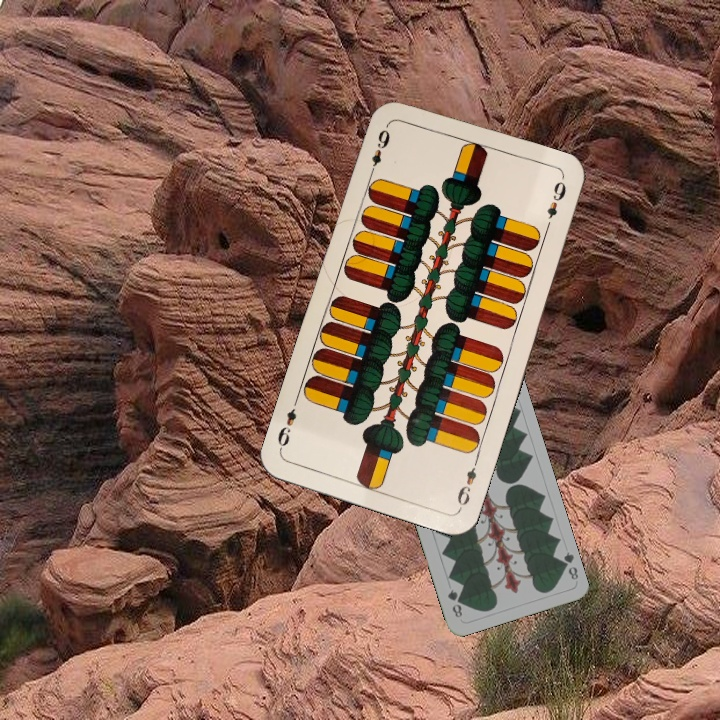E9: (453, 454, 481, 512), (366, 120, 393, 178)
G8: (556, 548, 581, 582)
